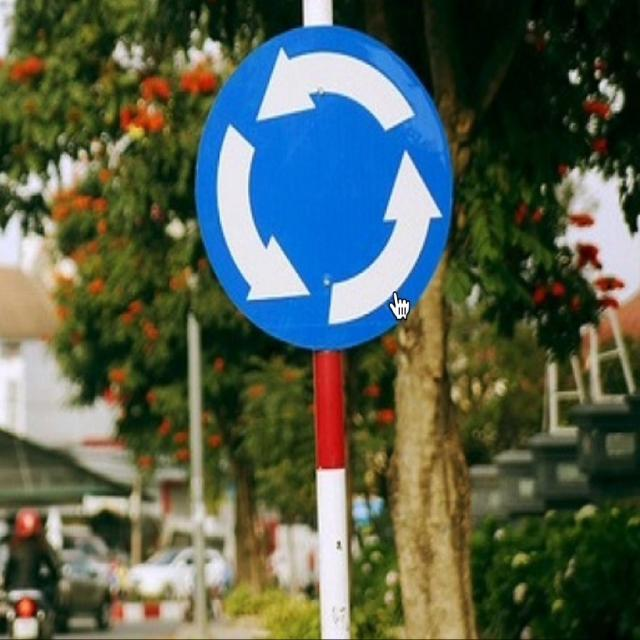303-noi-giao-nhau-chay-theo-vong-xuyen: (197, 19, 452, 352)
